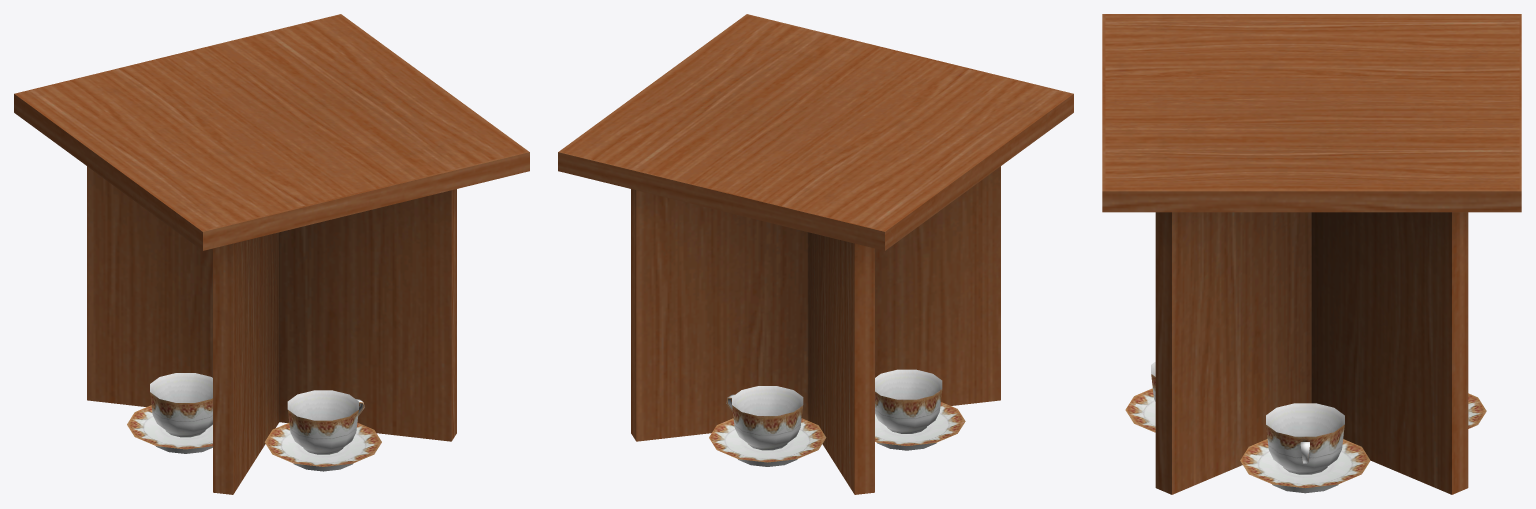
File: TeaTable.DAE
The picture shows the model from 3 angles, left to right: view 1: azimuth 30°, elevation 25°; view 2: azimuth 150°, elevation 25°; view 3: azimuth 270°, elevation 25°; orthographic projection. The views are drawn at different scales.
Parts seen in each view (by area): view 1: TeaTable; view 2: TeaTable; view 3: TeaTable.
Part boxes in pixels (<box>): TeaTable: <box>14,14,529,494</box>; TeaTable: <box>558,14,1073,494</box>; TeaTable: <box>1102,14,1521,494</box>.
Size of the model in its own units: 18 by 18 by 15.46.
1 material, 1 textured.
